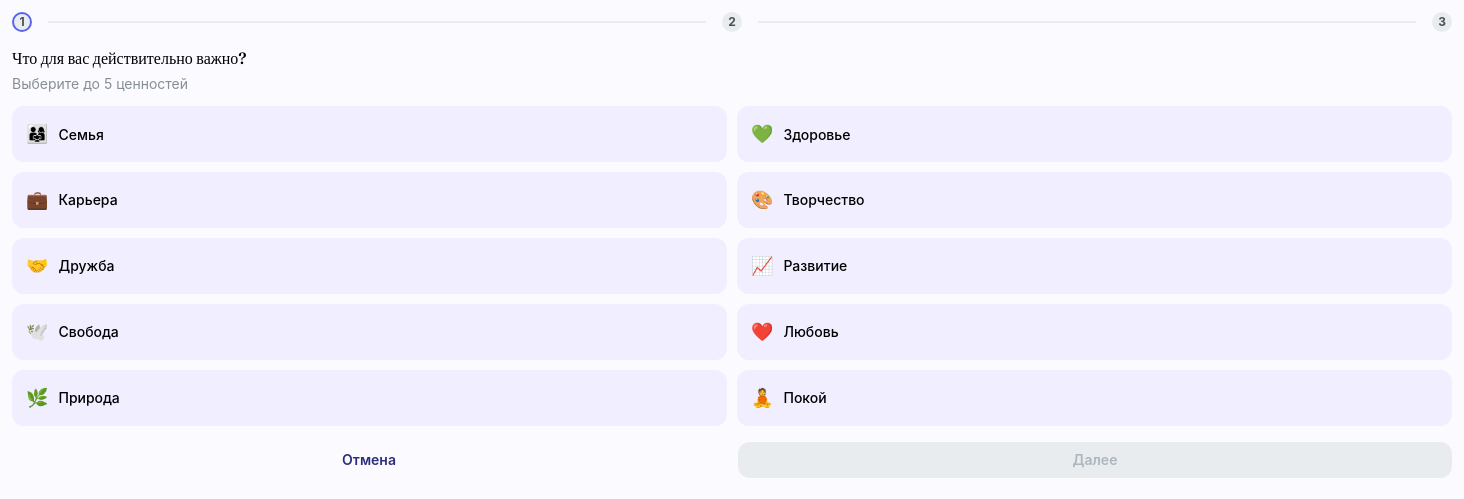
Scenario: ValuesDiaryForm › goes back to step 1 when clicking "Назад" on step 2
Click the text "Семья": (81, 134) left=58, top=124, right=104, bottom=145
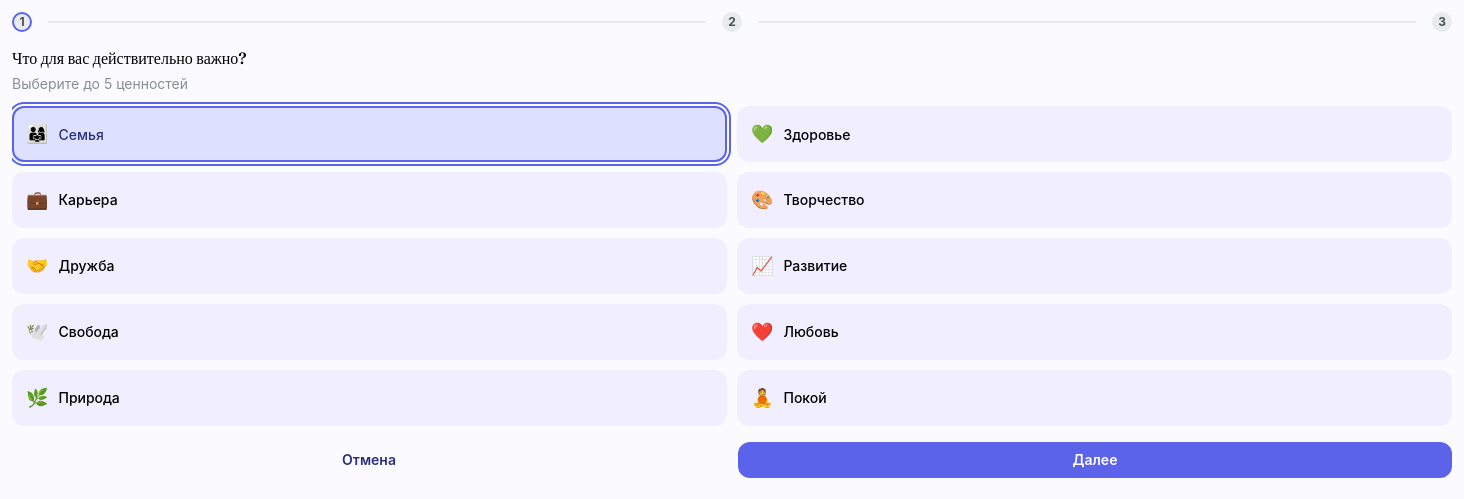
Click the button "Далее": (1095, 460) left=738, top=442, right=1452, bottom=478
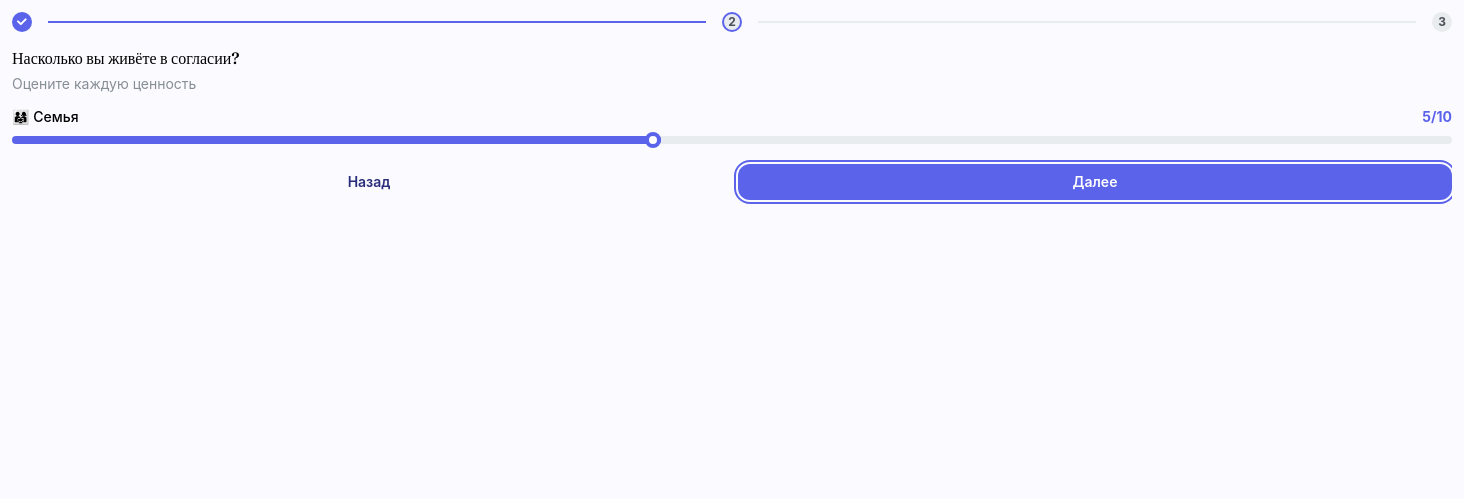
Click the button "Назад": (369, 182) left=12, top=164, right=726, bottom=200
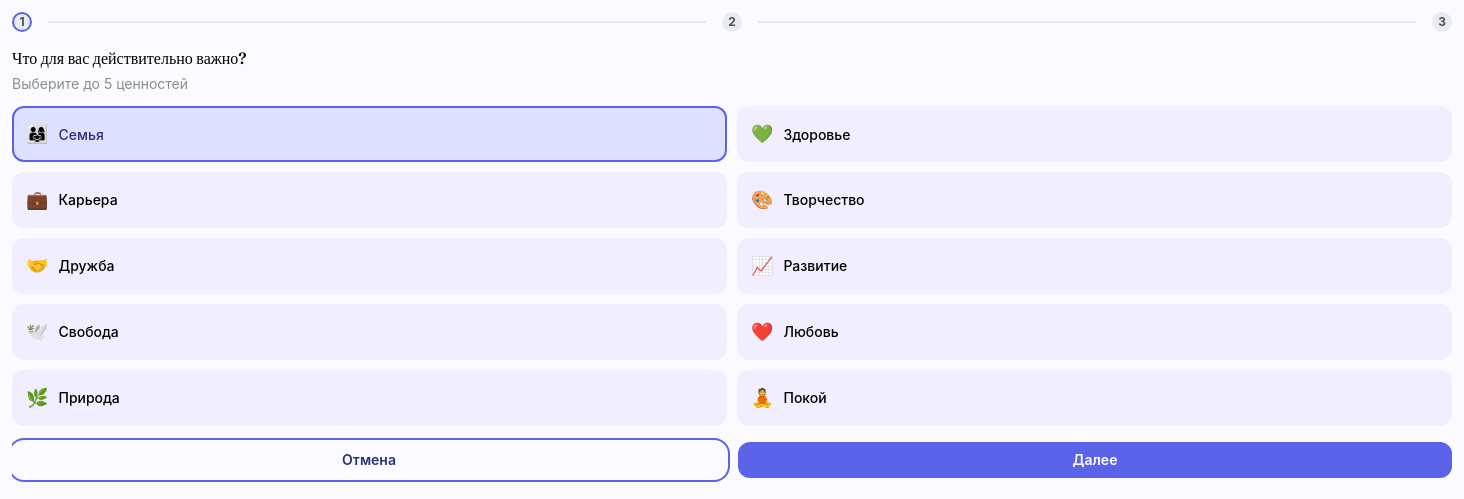
Now the heading "Что для вас действительно важно?" is shown, box left=12, top=48, right=247, bottom=68
